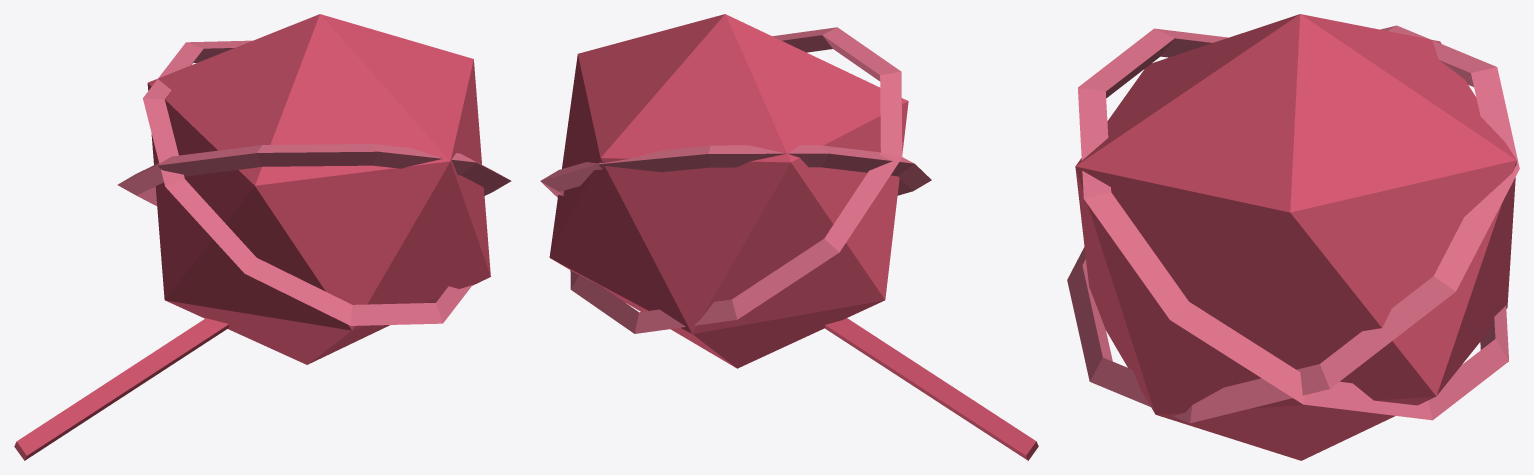
File: yarn.fbx
3 renders of one model, left to right at view 1: azimuth 30°, elevation 25°; view 2: azimuth 150°, elevation 25°; view 3: azimuth 270°, elevation 25°, orthographic. The views are drawn at different scales.
Visible parts, largest first — view 1: yarn; view 2: yarn; view 3: yarn.
Boxes of the visible parts, box(x1,y1,x2,y2) form: yarn: box(14, 14, 511, 460); yarn: box(540, 14, 1038, 460); yarn: box(1067, 14, 1519, 460).
Size of the model in its own units: 0.6691 by 0.5163 by 0.4357.
